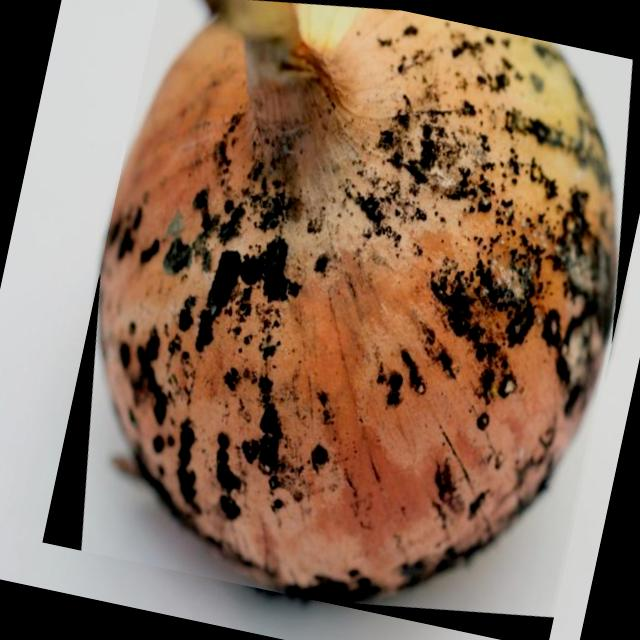mould: (99, 0, 617, 600)
